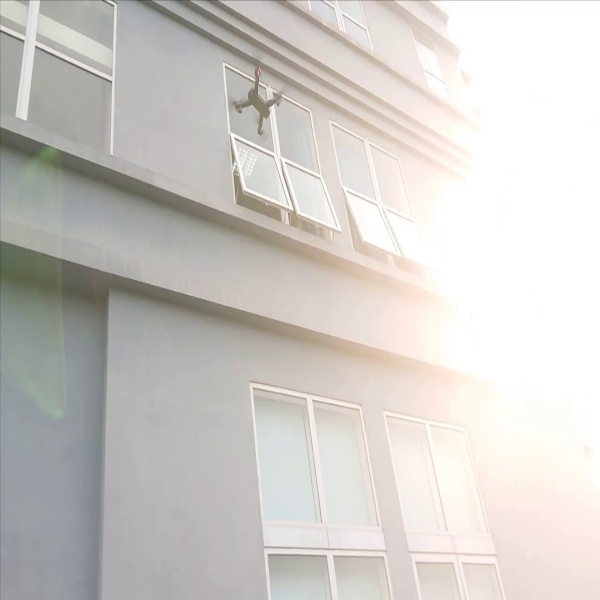drone: (221, 51, 289, 140)
